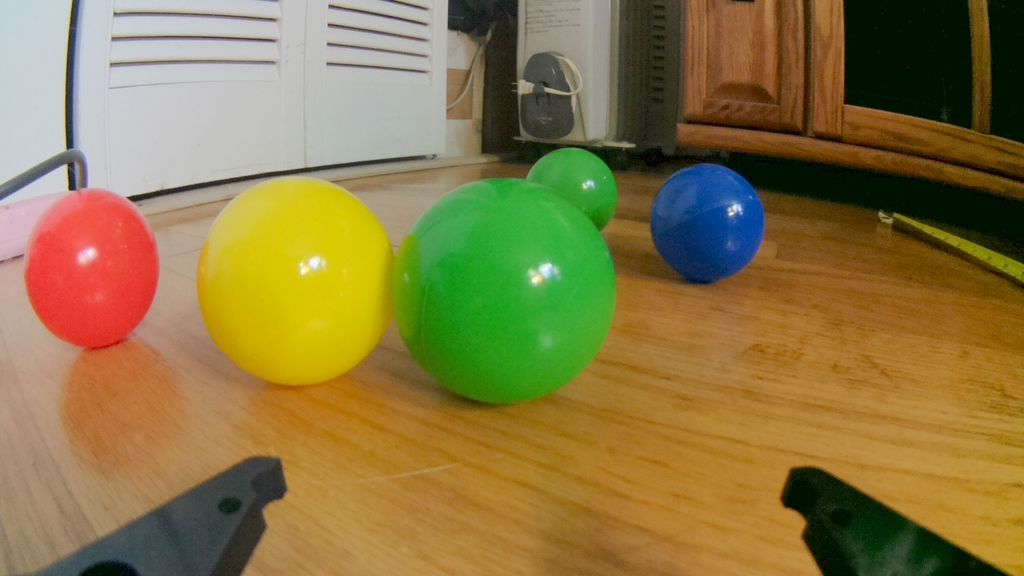ball: (21, 185, 164, 354)
